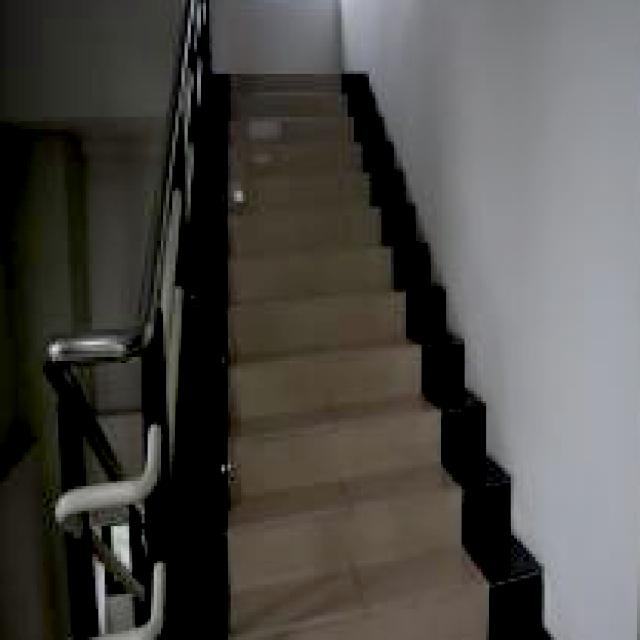upstair: (201, 93, 453, 629)
